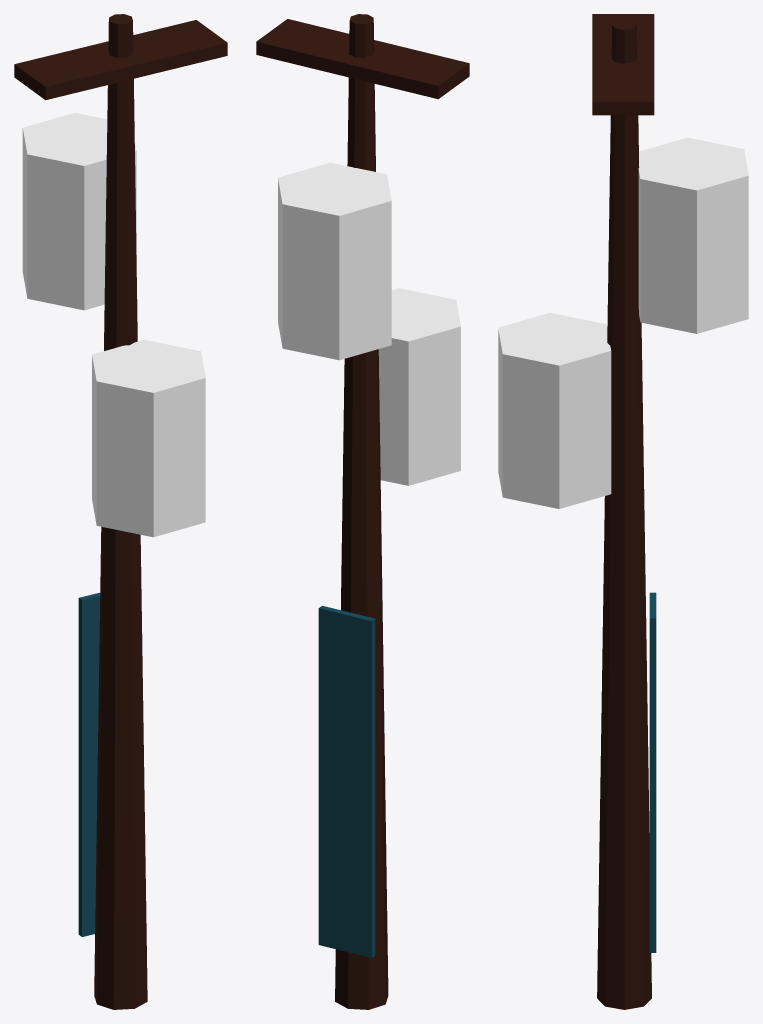
The model's file is electric.obj.
3 views of the same model, side by side, from view 1: azimuth 30°, elevation 25°; view 2: azimuth 150°, elevation 25°; view 3: azimuth 270°, elevation 25° (orthographic).
Visible parts, largest first — view 1: poteau.001_poteau_Cylinder.000; view 2: poteau.001_poteau_Cylinder.000; view 3: poteau.001_poteau_Cylinder.000.
Boxes of the visible parts, <box> form: poteau.001_poteau_Cylinder.000: <box>14,14,227,1009</box>; poteau.001_poteau_Cylinder.000: <box>256,14,469,1009</box>; poteau.001_poteau_Cylinder.000: <box>498,14,748,1009</box>.
Size of the model in its own units: 0.2075 by 1.07 by 0.249.
